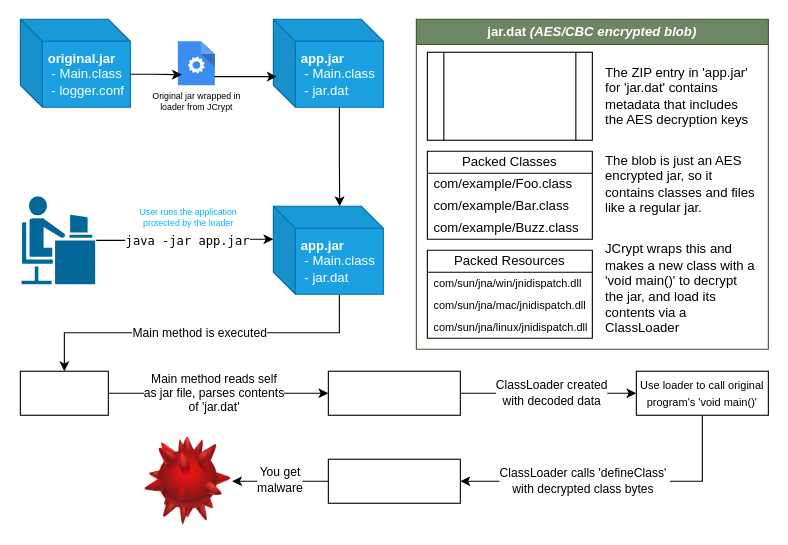
Some shapes in this 788 by 545 pixel diagram are drawn without their labels. The shapes that lost their labels are listed below. From the top down, each one's centre as x and y in pixels, then its label:
pixel 509 95: jar.dat (Zip entry metadata)
pixel 63 392: void main()
pixel 393 392: Extract packed classes + metadata
pixel 393 480: Original application logic runs
